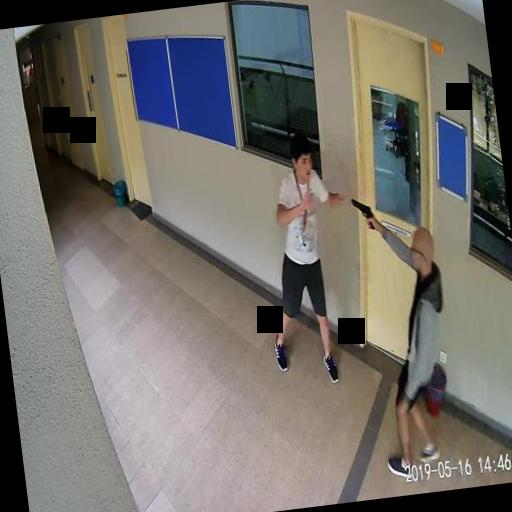Handgun: (350, 196, 374, 230)
